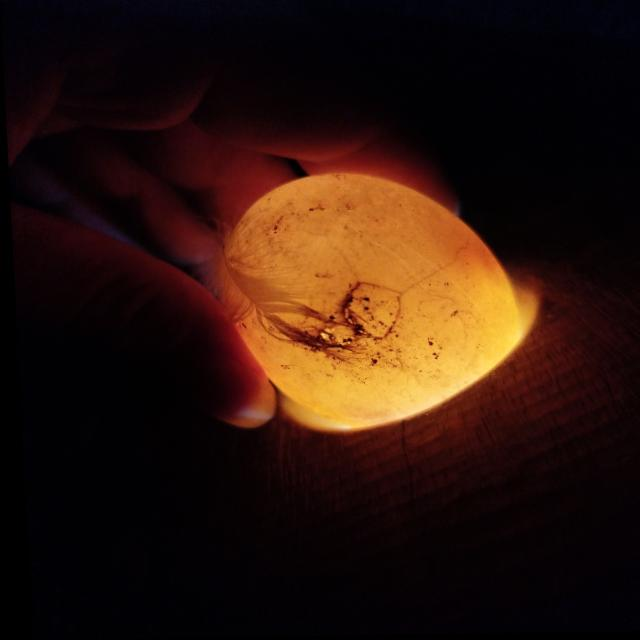Rachadura: (304, 228, 467, 400)
